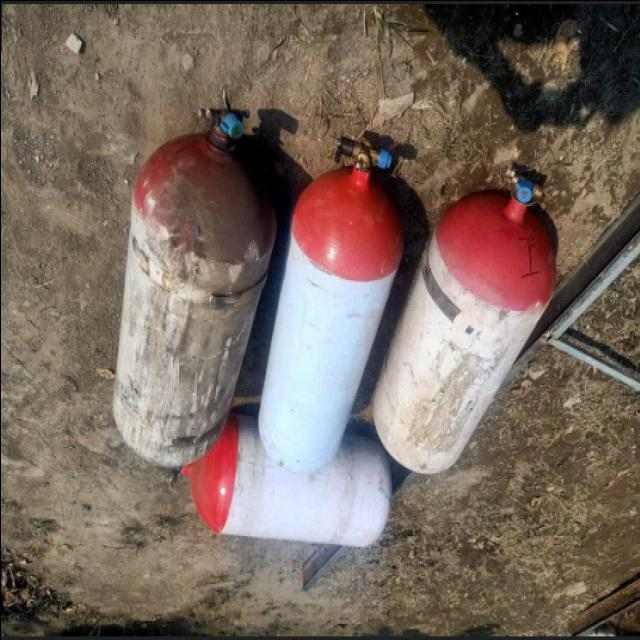cylinder: (112, 105, 277, 466), (371, 164, 556, 476), (257, 129, 401, 476)
